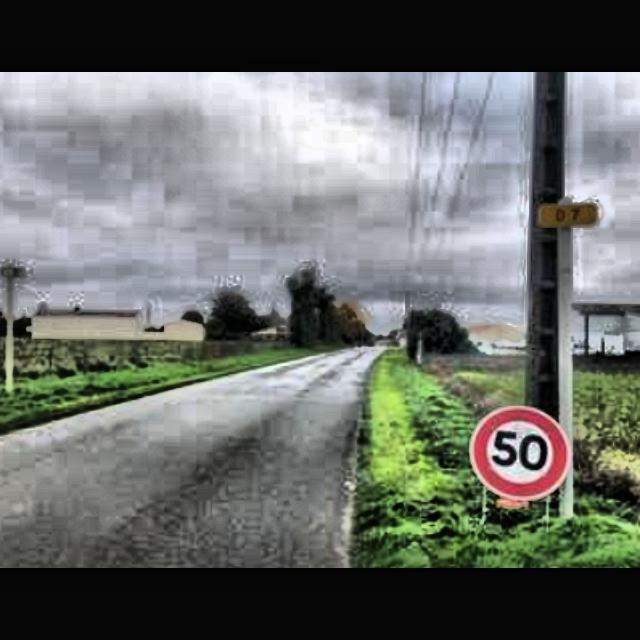speed_50: (472, 404, 572, 502)
